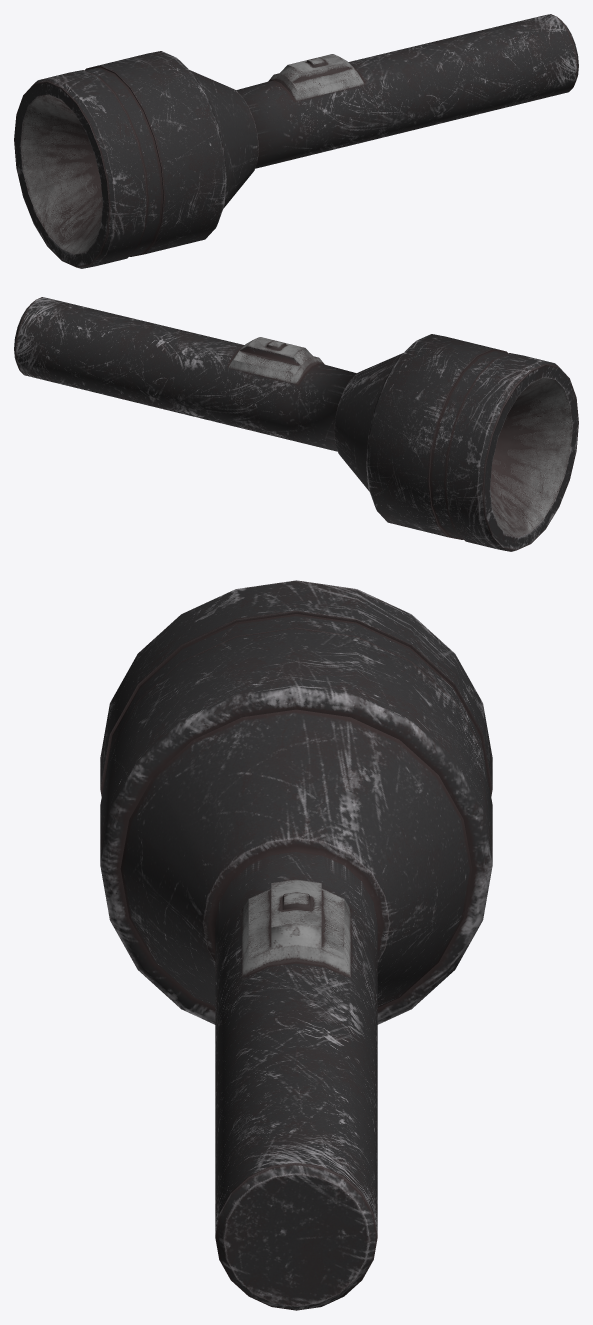
The model's file is linterna final.fbx.
3 views of the same model, one above another, from view 1: azimuth 30°, elevation 25°; view 2: azimuth 150°, elevation 25°; view 3: azimuth 270°, elevation 25° (orthographic). The views are drawn at different scales.
Visible parts, largest first — view 1: Cylinder.008; view 2: Cylinder.008; view 3: Cylinder.008.
Part boxes in pixels (x1=…): Cylinder.008: x1=14, y1=14, x2=578, y2=268; Cylinder.008: x1=14, y1=297, x2=578, y2=551; Cylinder.008: x1=100, y1=580, x2=492, y2=1310.
Bounding box in the file's own units: 24.91 × 8.48 × 8.48.
Materials: 1 (1 with a texture image).
